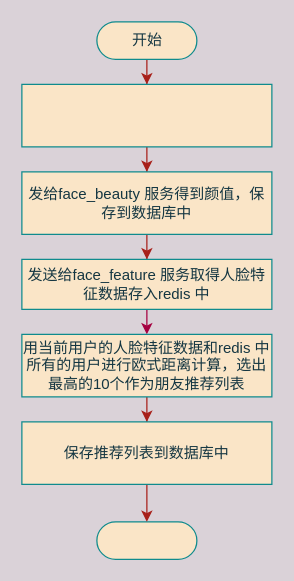
Image size: 294x581. Some labels were removed from this diagram. Each missing label, with the box of its shape:
用户上传或者修改头像: (21, 83, 272, 147)
结束: (96, 521, 197, 559)
